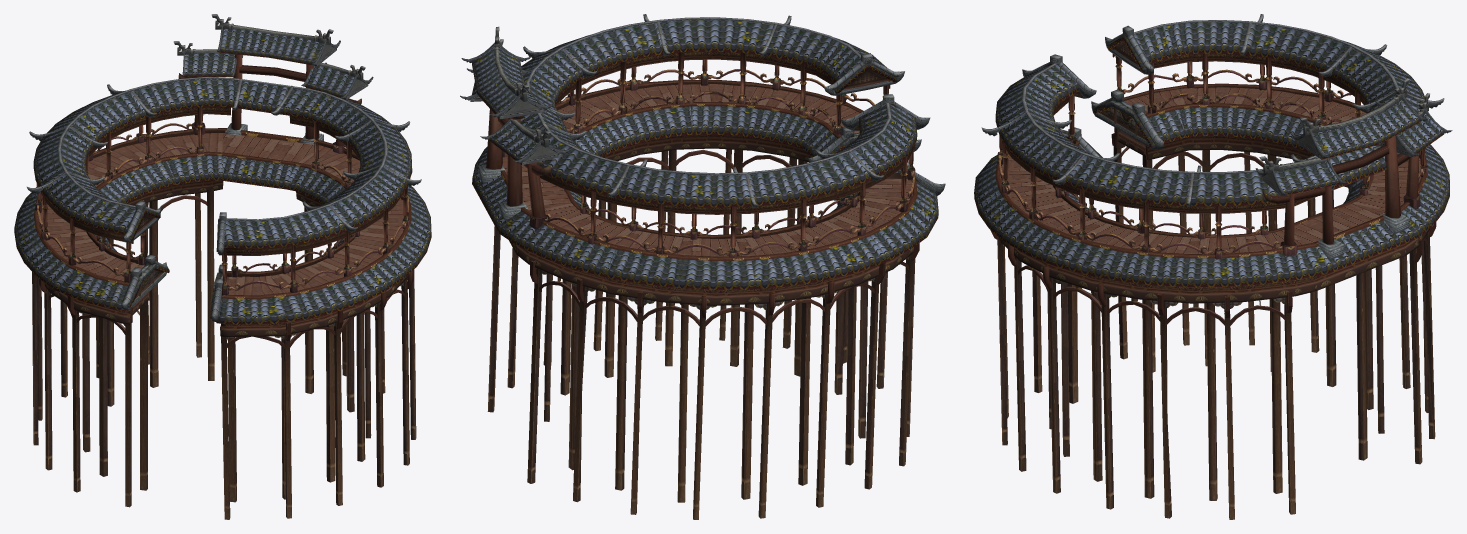
Rendered from S2_Build_XSC055.FBX.
The picture shows the model from 3 angles, left to right: view 1: azimuth 30°, elevation 25°; view 2: azimuth 150°, elevation 25°; view 3: azimuth 270°, elevation 25°; orthographic projection. The views are drawn at different scales.
Parts seen in each view (by area): view 1: S2_Build_XSC055; view 2: S2_Build_XSC055; view 3: S2_Build_XSC055.
Boxes of the visible parts, bbox=[...] form: S2_Build_XSC055: bbox=[14, 14, 431, 519]; S2_Build_XSC055: bbox=[460, 14, 945, 519]; S2_Build_XSC055: bbox=[974, 14, 1452, 519].
Bounding box in the file's own units: 4667 × 4287 × 4704.
